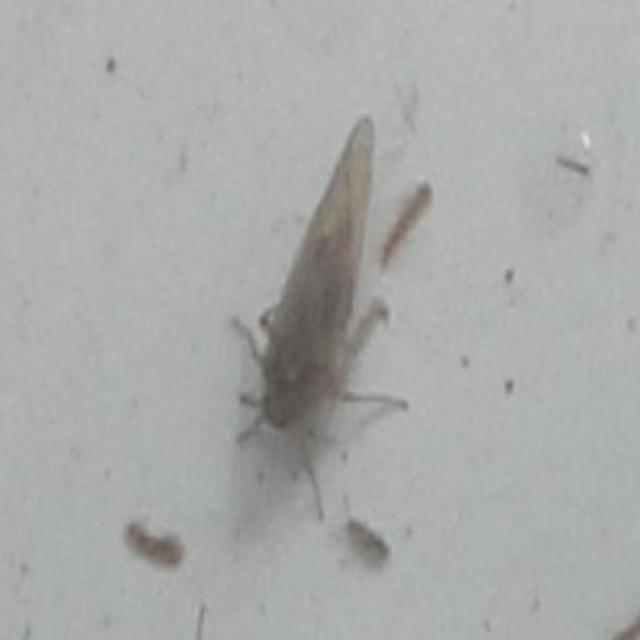brown plant hopper: (240, 117, 406, 517)
